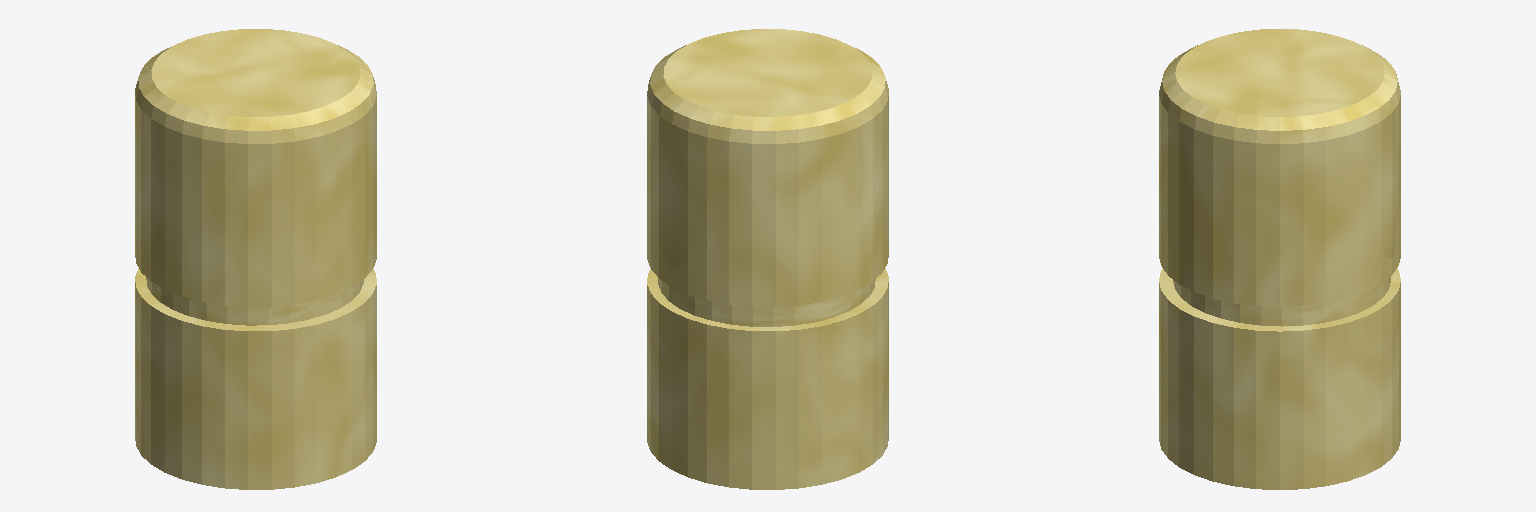
The picture shows the model from 3 angles: view 1: azimuth 30°, elevation 25°; view 2: azimuth 150°, elevation 25°; view 3: azimuth 270°, elevation 25°; orthographic projection.
Visible parts, largest first — view 1: wtcf_Cylinder.001; view 2: wtcf_Cylinder.001; view 3: wtcf_Cylinder.001.
Boxes of the visible parts, box(x1,y1,x2,y2) form: wtcf_Cylinder.001: box(135, 29, 376, 489); wtcf_Cylinder.001: box(647, 29, 888, 489); wtcf_Cylinder.001: box(1159, 29, 1400, 489).
Bounding box in the file's own units: 0.18 × 0.3 × 0.18.
Materials: 1 (1 with a texture image).